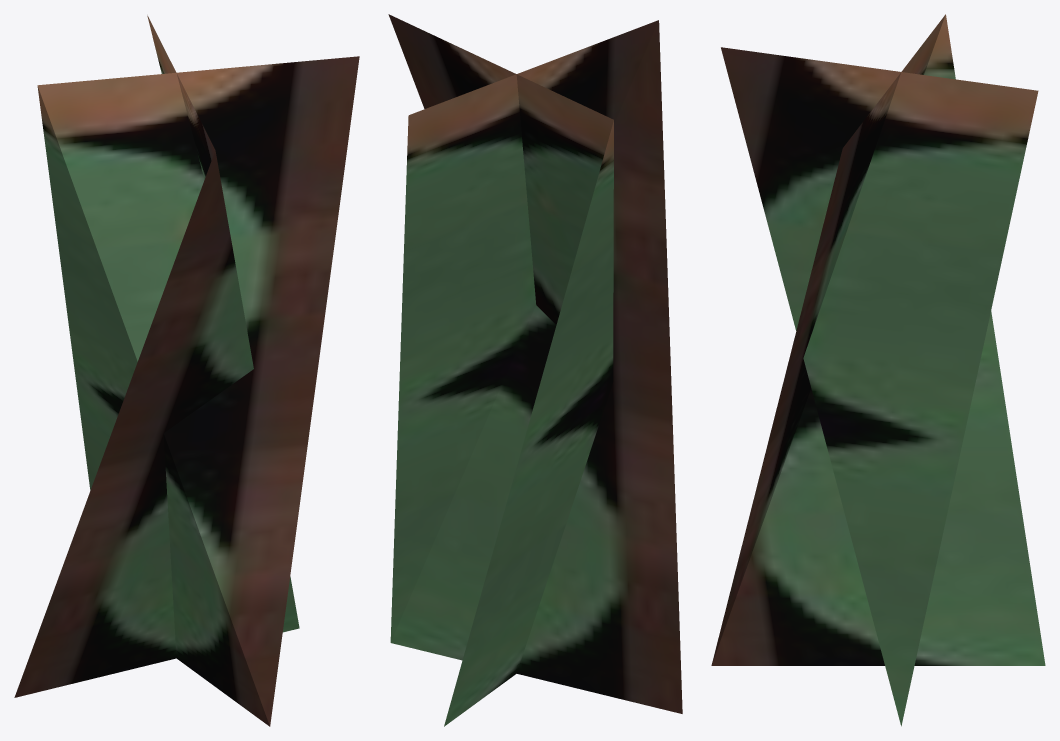
File: Canyon_Grass_6.glb
The picture shows the model from 3 angles, left to right: view 1: azimuth 30°, elevation 25°; view 2: azimuth 150°, elevation 25°; view 3: azimuth 270°, elevation 25°; orthographic projection. The views are drawn at different scales.
Parts seen in each view (by area): view 1: Canyon_Grass_6_0; view 2: Canyon_Grass_6_0; view 3: Canyon_Grass_6_0.
Boxes of the visible parts, bbox=[...] form: Canyon_Grass_6_0: bbox=[14, 15, 359, 726]; Canyon_Grass_6_0: bbox=[388, 14, 682, 726]; Canyon_Grass_6_0: bbox=[711, 14, 1045, 726].
Bounding box in the file's own units: 0.6105 × 1.08 × 0.5504.
Materials: 1 (1 with a texture image).
